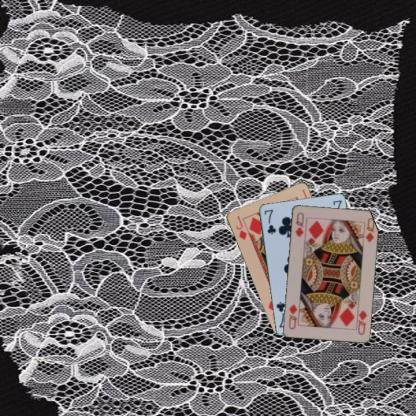7c: (262, 207, 276, 235)
Jd: (233, 213, 248, 241)
Qd: (353, 305, 368, 336), (292, 210, 305, 238)
